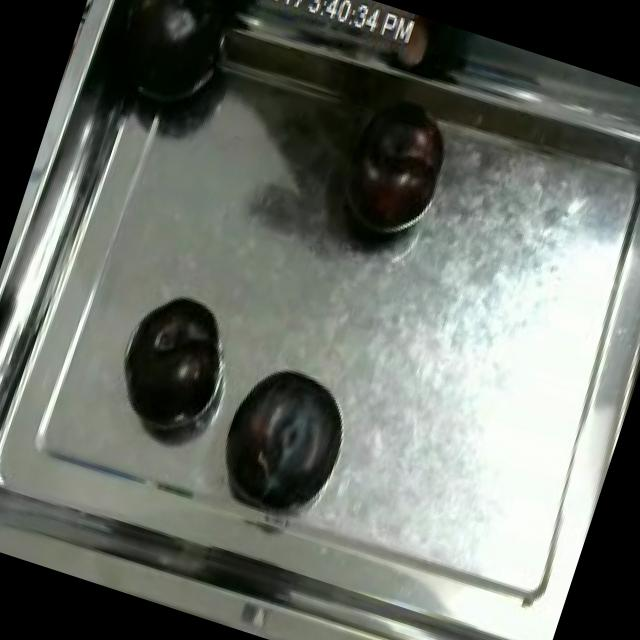Fruit: (211, 353, 361, 523), (323, 88, 463, 258), (108, 280, 242, 438)
